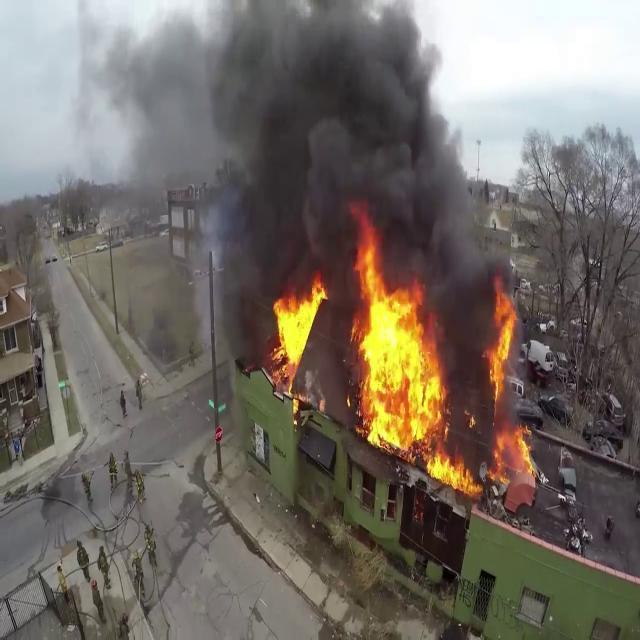Fire: (348, 240, 450, 456), (268, 276, 324, 389), (486, 418, 544, 494), (484, 284, 519, 400), (420, 438, 481, 499)
Smoke: (98, 0, 490, 303)
